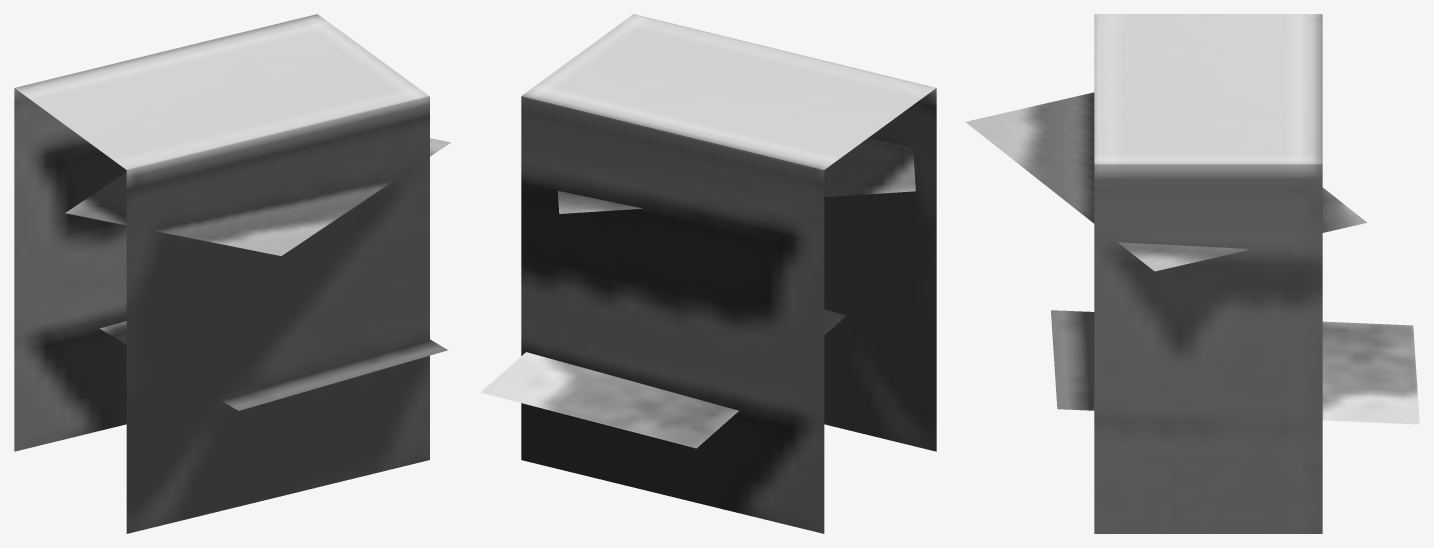
The model's file is Tx_props_paper_stack.fbx.
The picture shows the model from 3 angles, left to right: view 1: azimuth 30°, elevation 25°; view 2: azimuth 150°, elevation 25°; view 3: azimuth 270°, elevation 25°; orthographic projection.
Visible parts, largest first — view 1: Tx_props_paper_stack; view 2: Tx_props_paper_stack; view 3: Tx_props_paper_stack.
Boxes of the visible parts, x1=… form: Tx_props_paper_stack: x1=14, y1=14, x2=450, y2=533; Tx_props_paper_stack: x1=480, y1=14, x2=936, y2=533; Tx_props_paper_stack: x1=966, y1=14, x2=1419, y2=533.
Size of the model in its own units: 3.19 by 2.96 by 3.3.
